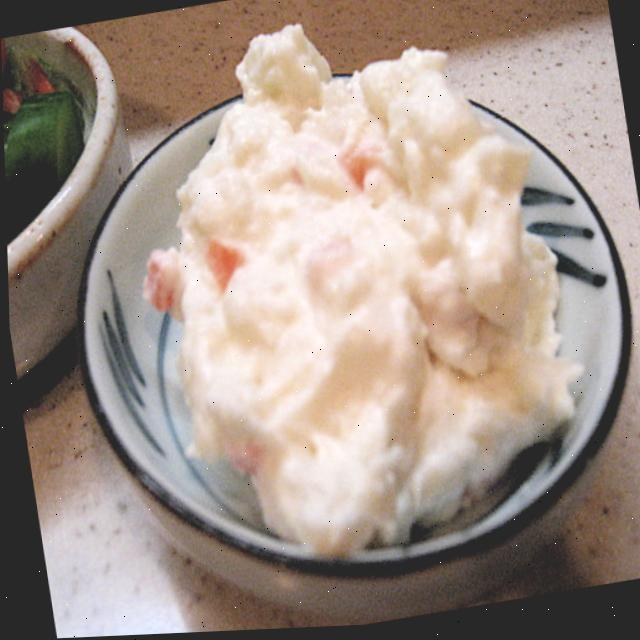蔬菜料理: (23, 0, 640, 639)
